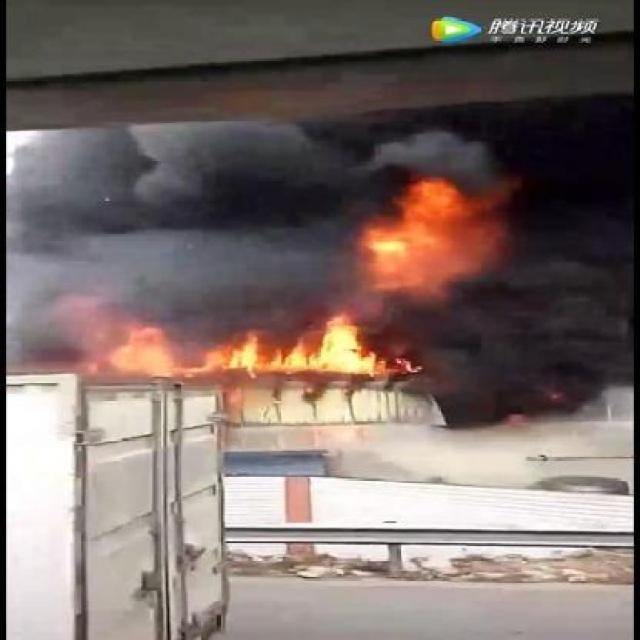Fire: (44, 290, 443, 394), (349, 168, 537, 289)
